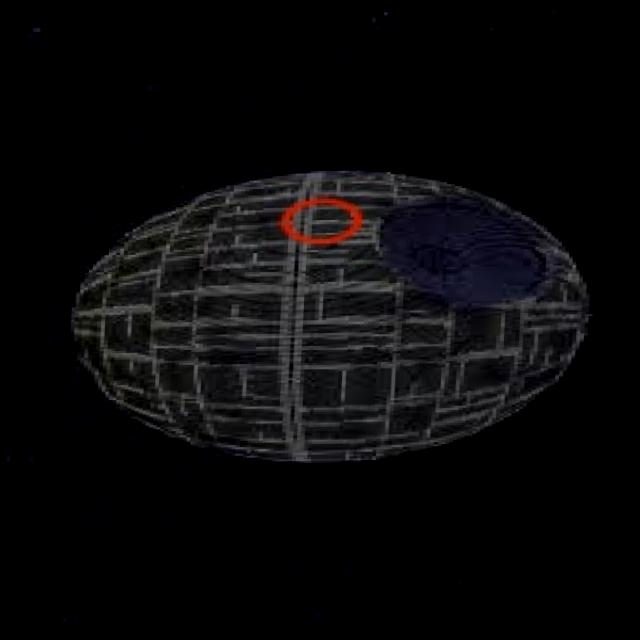deathStar: (61, 168, 603, 466)
